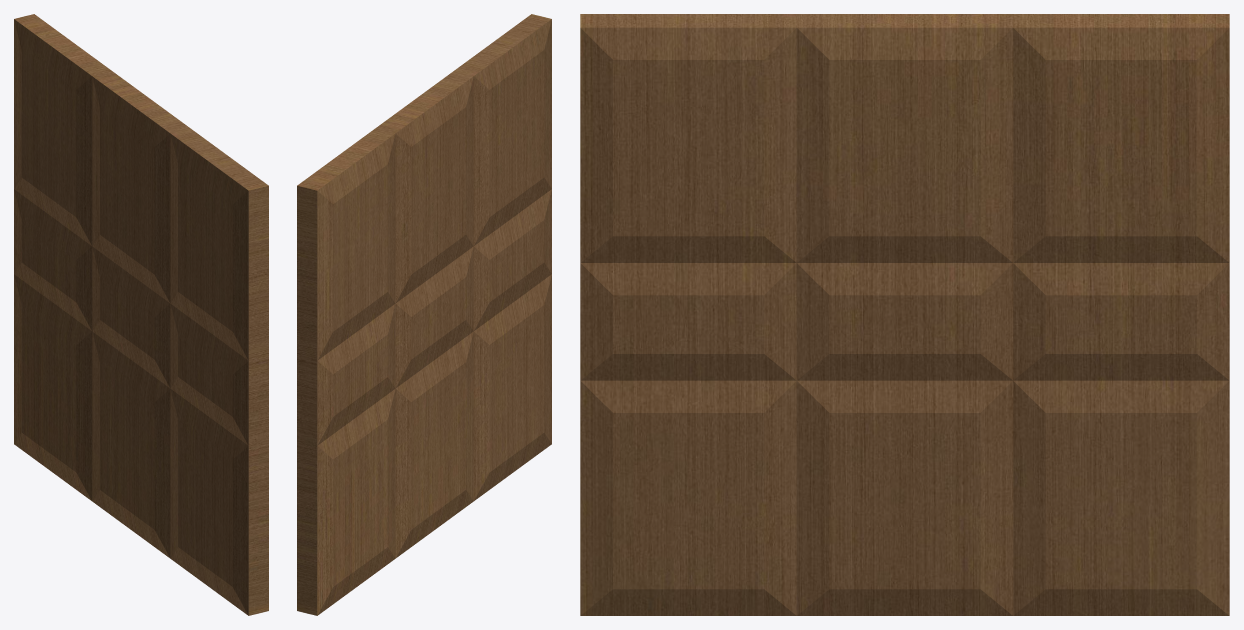
File: NewDoor.fbx
3 renders of one model, left to right at view 1: azimuth 30°, elevation 25°; view 2: azimuth 150°, elevation 25°; view 3: azimuth 270°, elevation 25°, orthographic. The views are drawn at different scales.
Parts seen in each view (by area): view 1: Door_0.1x2x2; view 2: Door_0.1x2x2; view 3: Door_0.1x2x2.
Part boxes in pixels (x1,y1,x2,y2): Door_0.1x2x2: [14, 14, 268, 615]; Door_0.1x2x2: [297, 14, 551, 615]; Door_0.1x2x2: [580, 14, 1229, 615].
Size of the model in its own units: 14 by 200 by 200.
